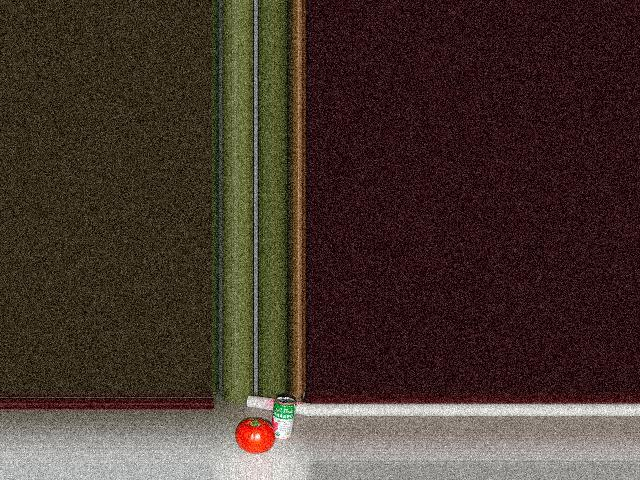tomato: (235, 419, 274, 453)
